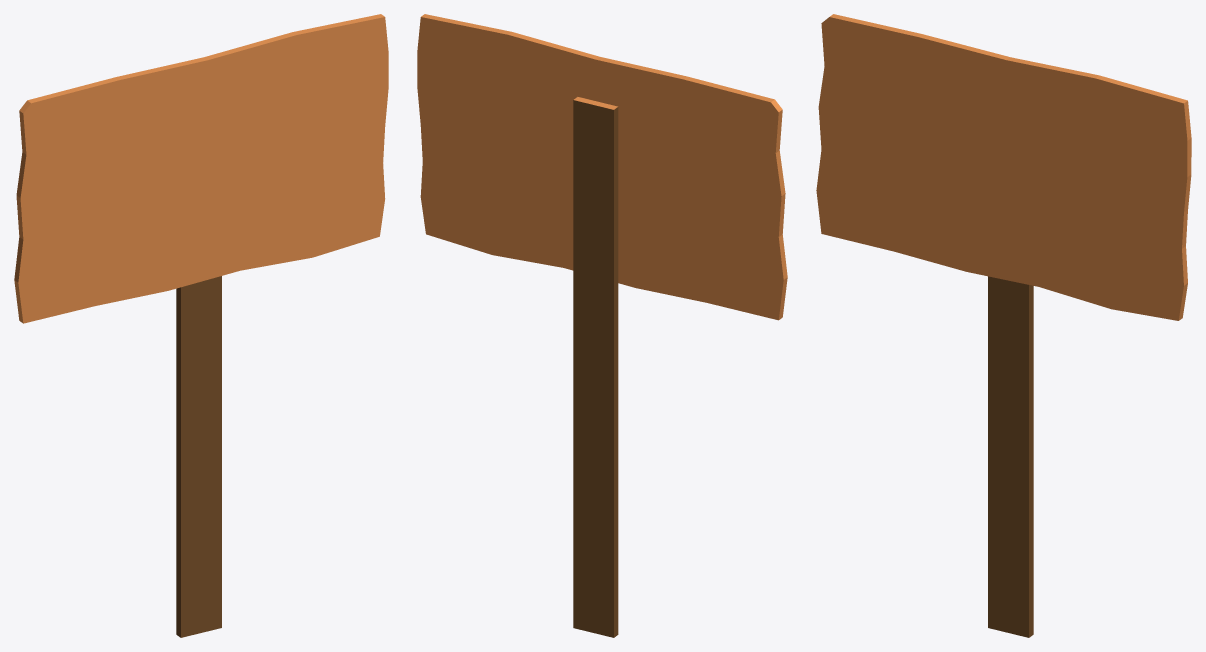
File: dice-sign.glb
3 views of the same model, side by side, from view 1: azimuth 30°, elevation 25°; view 2: azimuth 150°, elevation 25°; view 3: azimuth 330°, elevation 25° (orthographic).
Parts seen in each view (by area): view 1: Sign11; view 2: Sign11; view 3: Sign11.
Boxes of the visible parts, x1,y1,x2,y2 form: Sign11: [14, 14, 388, 637]; Sign11: [417, 14, 787, 637]; Sign11: [816, 14, 1191, 637].
Size of the model in its own units: 7.89 by 11.79 by 0.3251.
